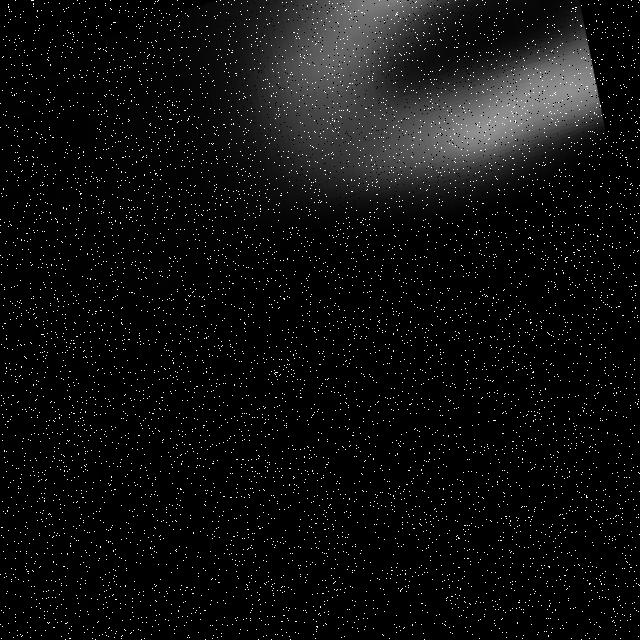person: (89, 1, 622, 313)
